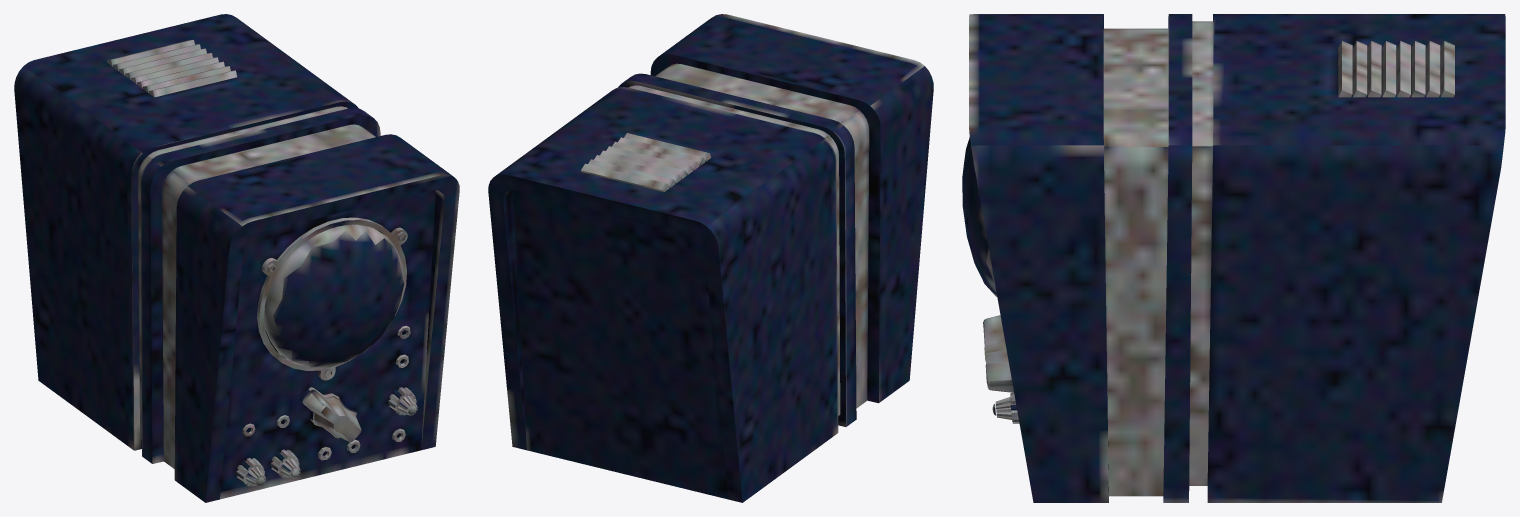
The model's file is pribor1.fbx.
3 renders of one model, left to right at view 1: azimuth 30°, elevation 25°; view 2: azimuth 150°, elevation 25°; view 3: azimuth 270°, elevation 25°, orthographic. The views are drawn at different scales.
Parts seen in each view (by area): view 1: Cube.014, Cube.001; view 2: Cube.014; view 3: Cube.014, Cube.001.
Boxes of the visible parts, x1,y1,x2,y2 form: Cube.014: [14, 14, 459, 502]; Cube.001: [264, 224, 404, 367]; Cube.014: [488, 14, 933, 502]; Cube.014: [969, 14, 1505, 502]; Cube.001: [962, 137, 997, 296].
Size of the model in its own units: 160 by 201 by 268.
